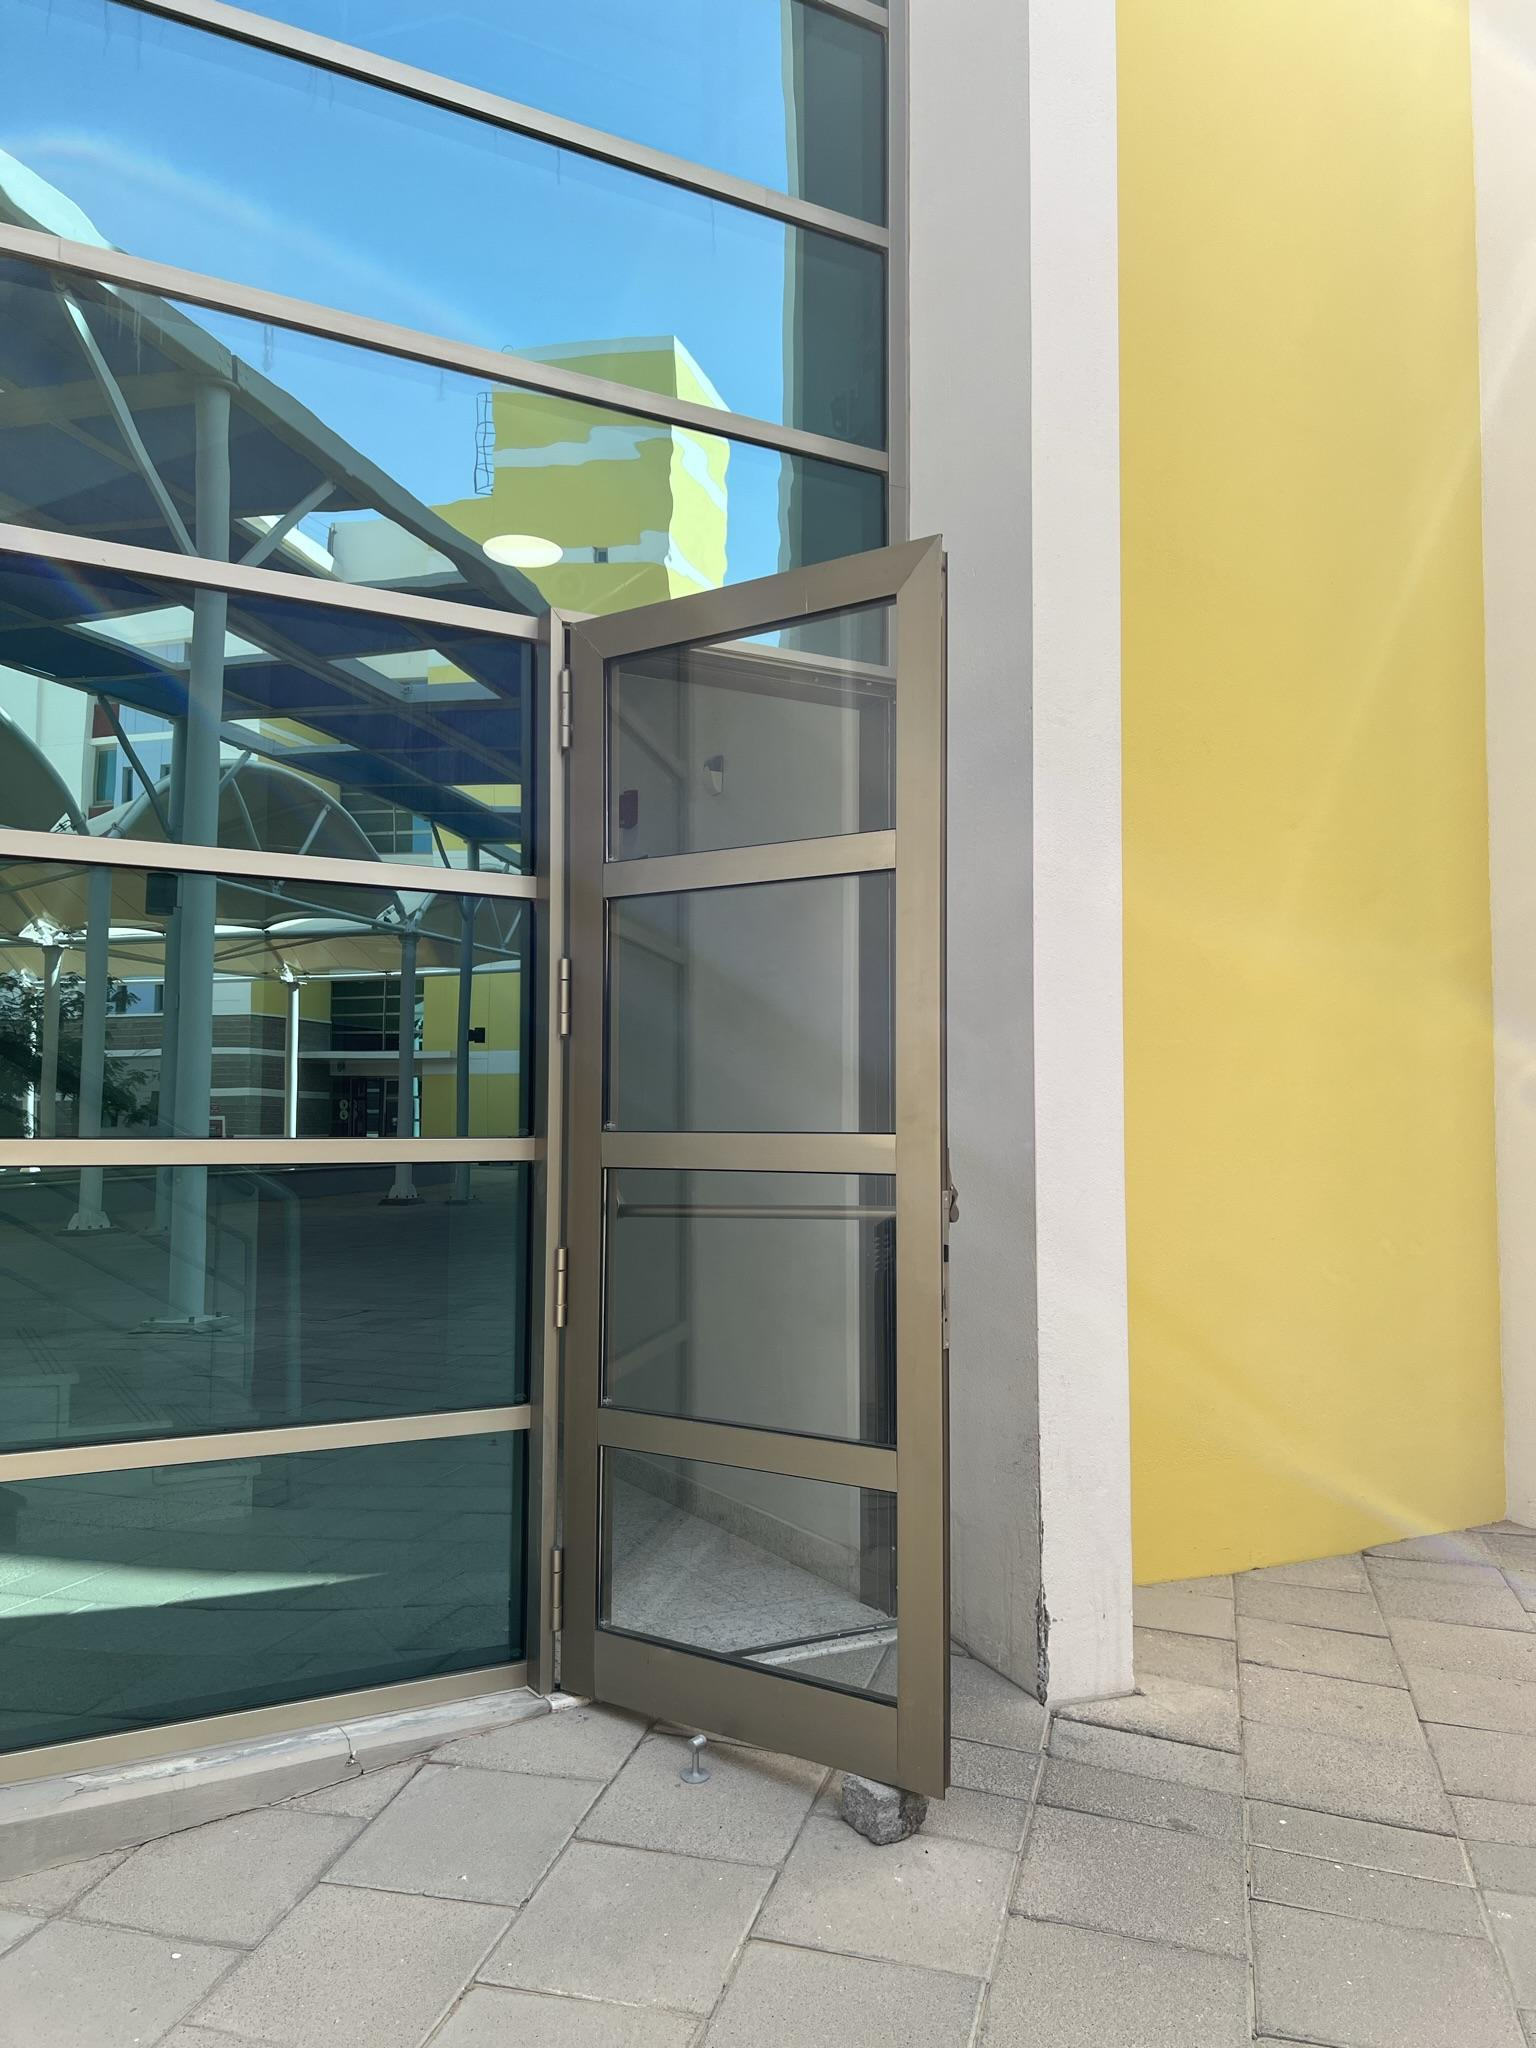door: (547, 581, 957, 1774)
